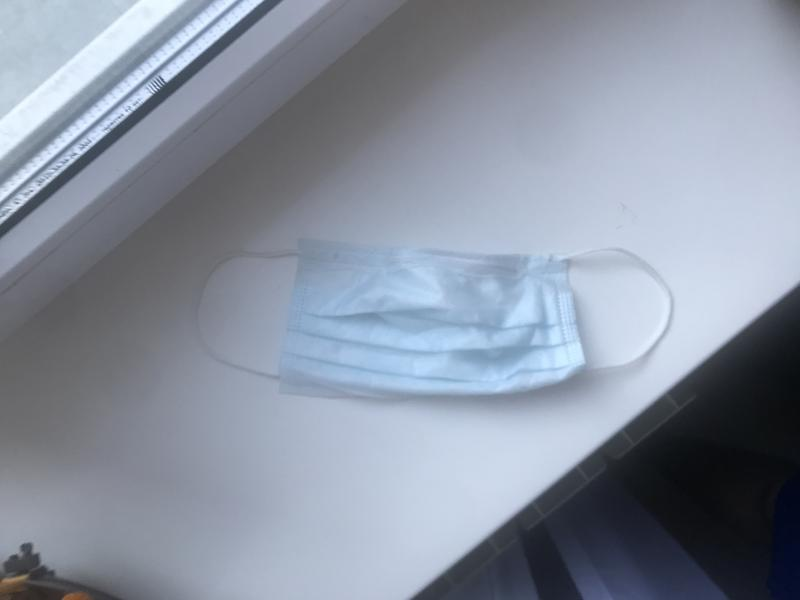medical_mask: (191, 236, 674, 396)
